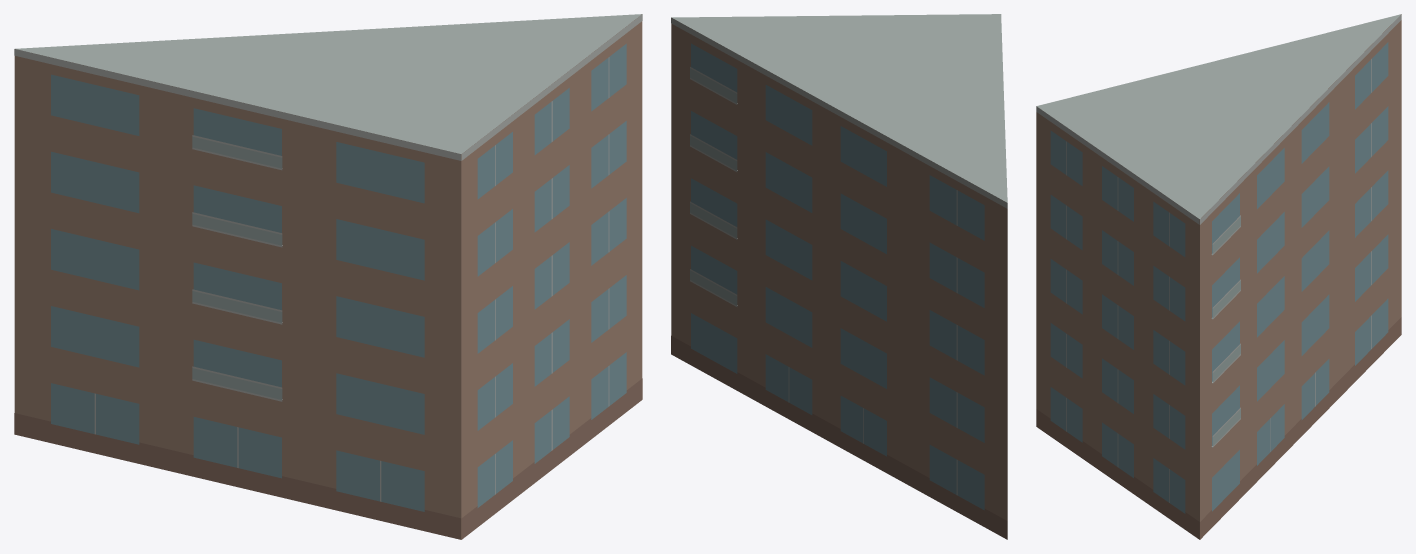
File: survey-upis-32968376.glb
3 renders of one model, left to right at view 1: azimuth 30°, elevation 25°; view 2: azimuth 150°, elevation 25°; view 3: azimuth 270°, elevation 25°, orthographic. The views are drawn at different scales.
Visible parts, largest first — view 1: survey-upis-32968376.tmp; view 2: survey-upis-32968376.tmp; view 3: survey-upis-32968376.tmp.
Boxes of the visible parts, box(x1,y1,x2,y2) form: survey-upis-32968376.tmp: box(14, 14, 642, 539); survey-upis-32968376.tmp: box(671, 14, 1007, 539); survey-upis-32968376.tmp: box(1036, 14, 1401, 539).
Size of the model in its own units: 18.83 by 13.7 by 14.16.
